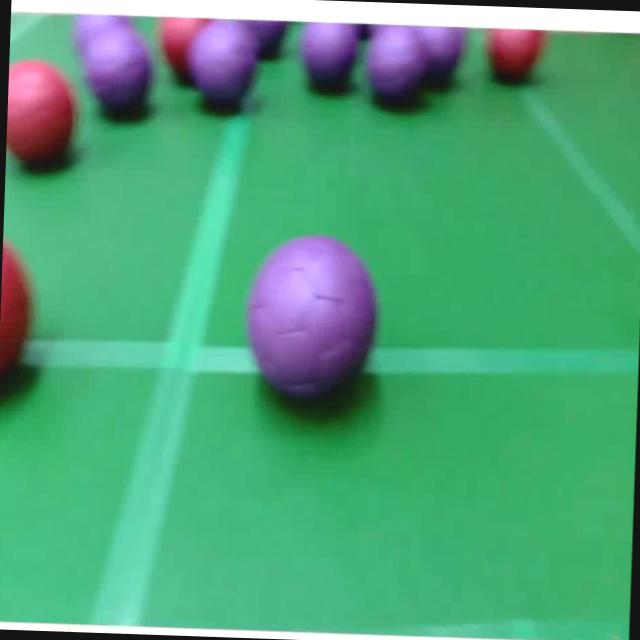purple_ball: (245, 233, 383, 410), (80, 26, 152, 117), (195, 23, 259, 108), (367, 29, 429, 110), (302, 22, 360, 89), (414, 26, 466, 86), (75, 11, 134, 48)
red_ball: (5, 61, 78, 173), (0, 245, 42, 391), (483, 28, 553, 80), (158, 18, 202, 88)
